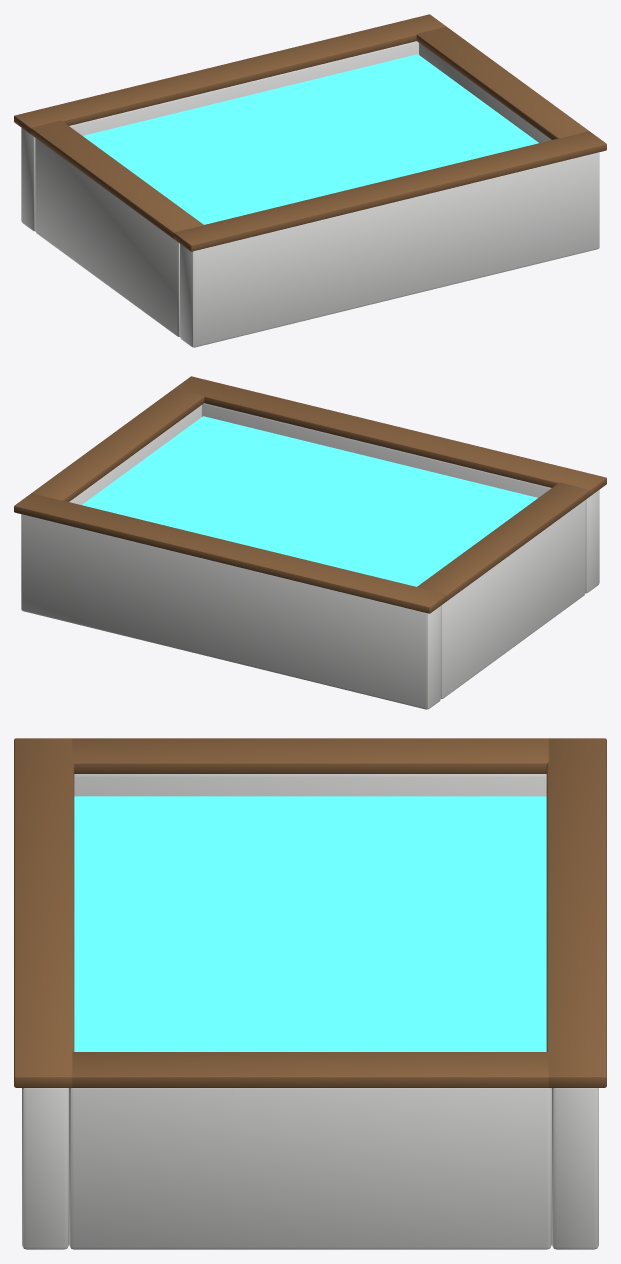
Rendered from marlin_spa.glb.
The picture shows the model from 3 angles, top to bottom: view 1: azimuth 30°, elevation 25°; view 2: azimuth 150°, elevation 25°; view 3: azimuth 270°, elevation 25°; orthographic projection. The views are drawn at different scales.
Parts seen in each view (by area): view 1: marlin_spa; view 2: marlin_spa; view 3: marlin_spa.
Boxes of the visible parts, left/top/right/bottom form: marlin_spa: left=14, top=14, right=606, bottom=347; marlin_spa: left=14, top=376, right=606, bottom=709; marlin_spa: left=14, top=738, right=606, bottom=1249.
Bounding box in the file's own units: 3.06 × 0.75 × 2.26.
